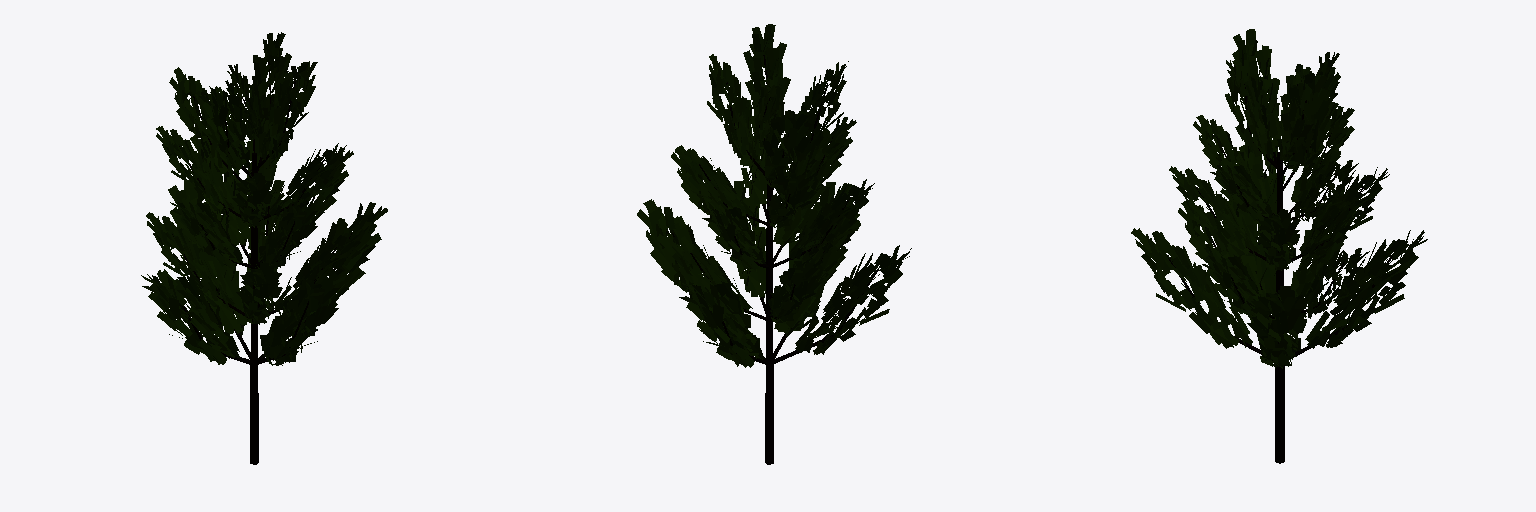
The model's file is Tree1.obj.
The picture shows the model from 3 angles: view 1: azimuth 30°, elevation 25°; view 2: azimuth 150°, elevation 25°; view 3: azimuth 270°, elevation 25°; orthographic projection.
Visible parts, largest first — view 1: Tree1_Cube.039; view 2: Tree1_Cube.039; view 3: Tree1_Cube.039.
Boxes of the visible parts, box(x1,y1,x2,y2) form: Tree1_Cube.039: box(141, 32, 387, 464); Tree1_Cube.039: box(637, 24, 911, 464); Tree1_Cube.039: box(1131, 29, 1427, 463).
Bounding box in the file's own units: 9.45 × 14.64 × 9.57.